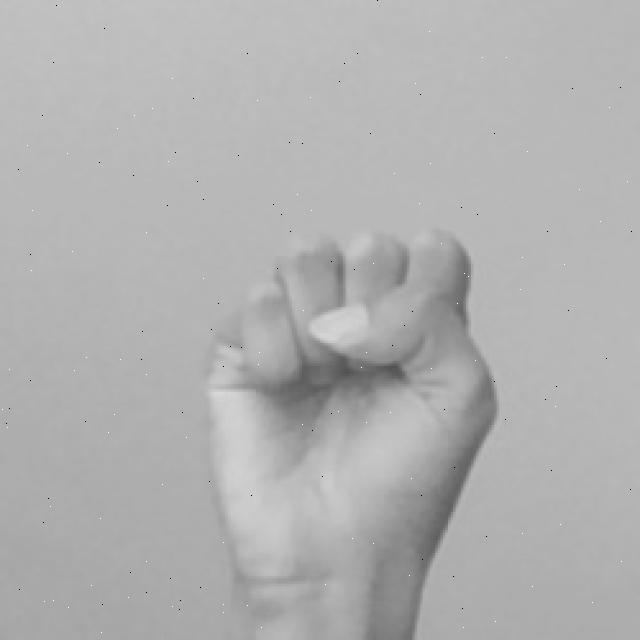S: (176, 220, 502, 640)
